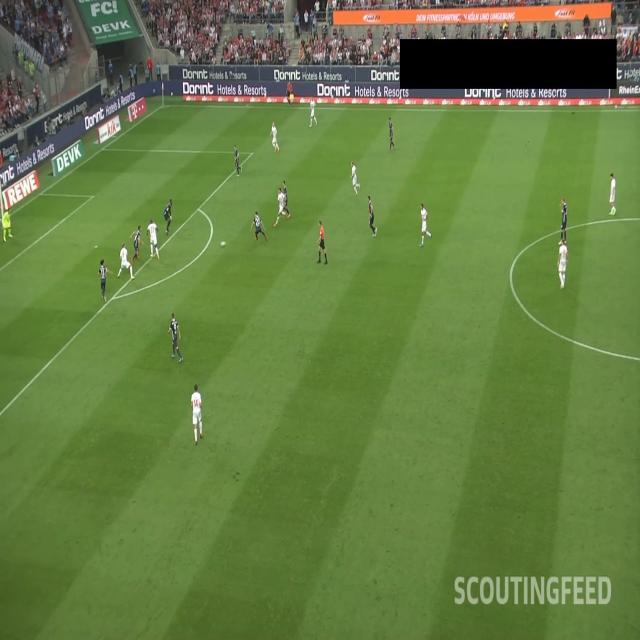ball: (219, 240, 226, 248)
